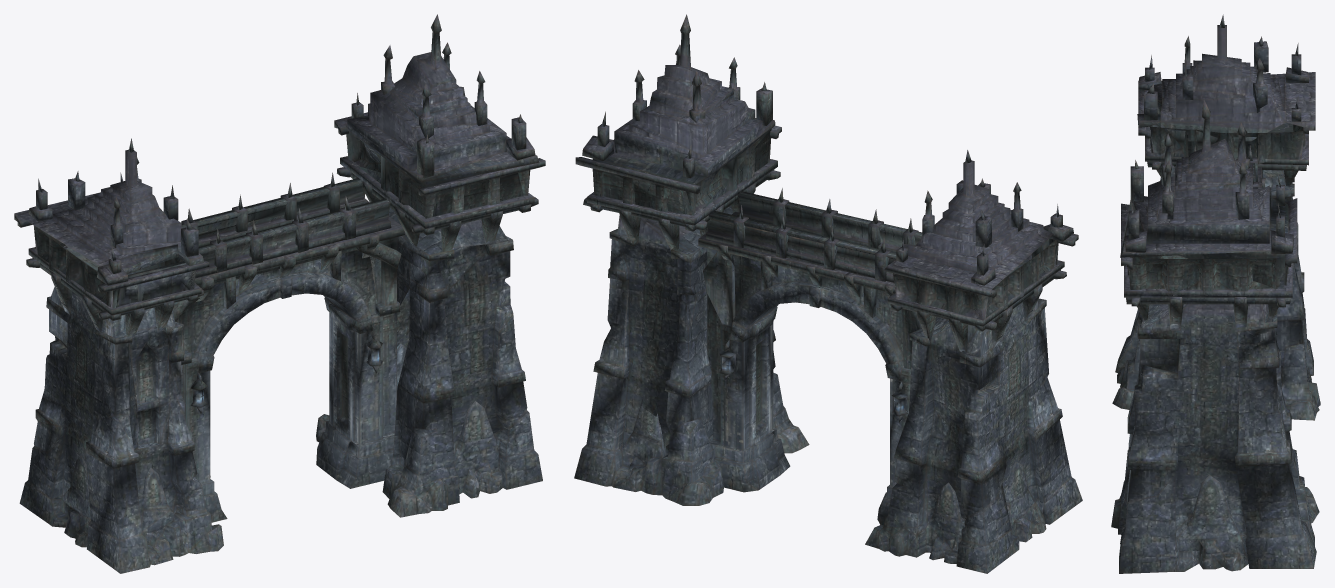
File: gate.glb
3 views of the same model, side by side, from view 1: azimuth 30°, elevation 25°; view 2: azimuth 150°, elevation 25°; view 3: azimuth 270°, elevation 25° (orthographic).
Parts seen in each view (by area): view 1: tripo_node_0fdf42da-86f3-4c86-a13e-4c838e992f93; view 2: tripo_node_0fdf42da-86f3-4c86-a13e-4c838e992f93; view 3: tripo_node_0fdf42da-86f3-4c86-a13e-4c838e992f93.
Boxes of the visible parts, left/top/right/bottom form: tripo_node_0fdf42da-86f3-4c86-a13e-4c838e992f93: left=14, top=14, right=545, bottom=573; tripo_node_0fdf42da-86f3-4c86-a13e-4c838e992f93: left=574, top=14, right=1082, bottom=573; tripo_node_0fdf42da-86f3-4c86-a13e-4c838e992f93: left=1111, top=14, right=1320, bottom=573.
Bounding box in the file's own units: 12 × 12 × 5.1.
Materials: 1 (1 with a texture image).
